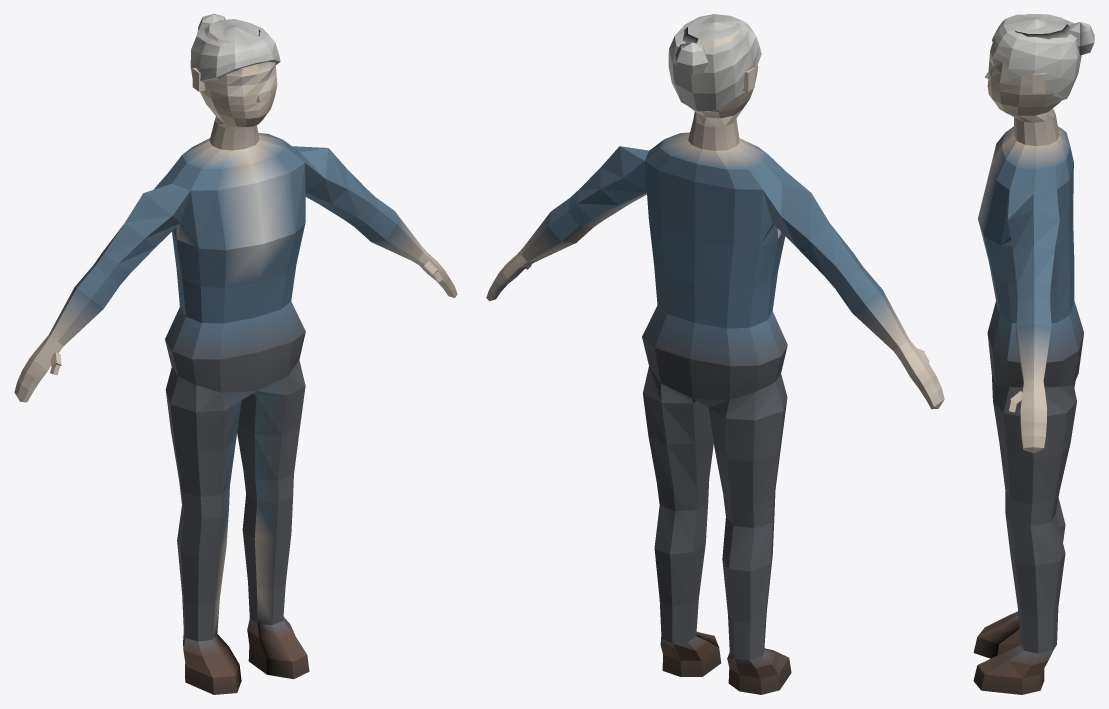
The model's file is char__pessoa__multidao_04.glb.
3 renders of one model, left to right at view 1: azimuth 30°, elevation 25°; view 2: azimuth 150°, elevation 25°; view 3: azimuth 270°, elevation 25°, orthographic. The views are drawn at different scales.
Parts seen in each view (by area): view 1: char__pessoa__multidao_04; view 2: char__pessoa__multidao_04; view 3: char__pessoa__multidao_04.
Boxes of the visible parts, x1,y1,x2,y2 form: char__pessoa__multidao_04: (14,14,457,694); char__pessoa__multidao_04: (486,14,944,694); char__pessoa__multidao_04: (973,14,1094,694).
Size of the model in its own units: 1.13 by 1.59 by 0.267.
